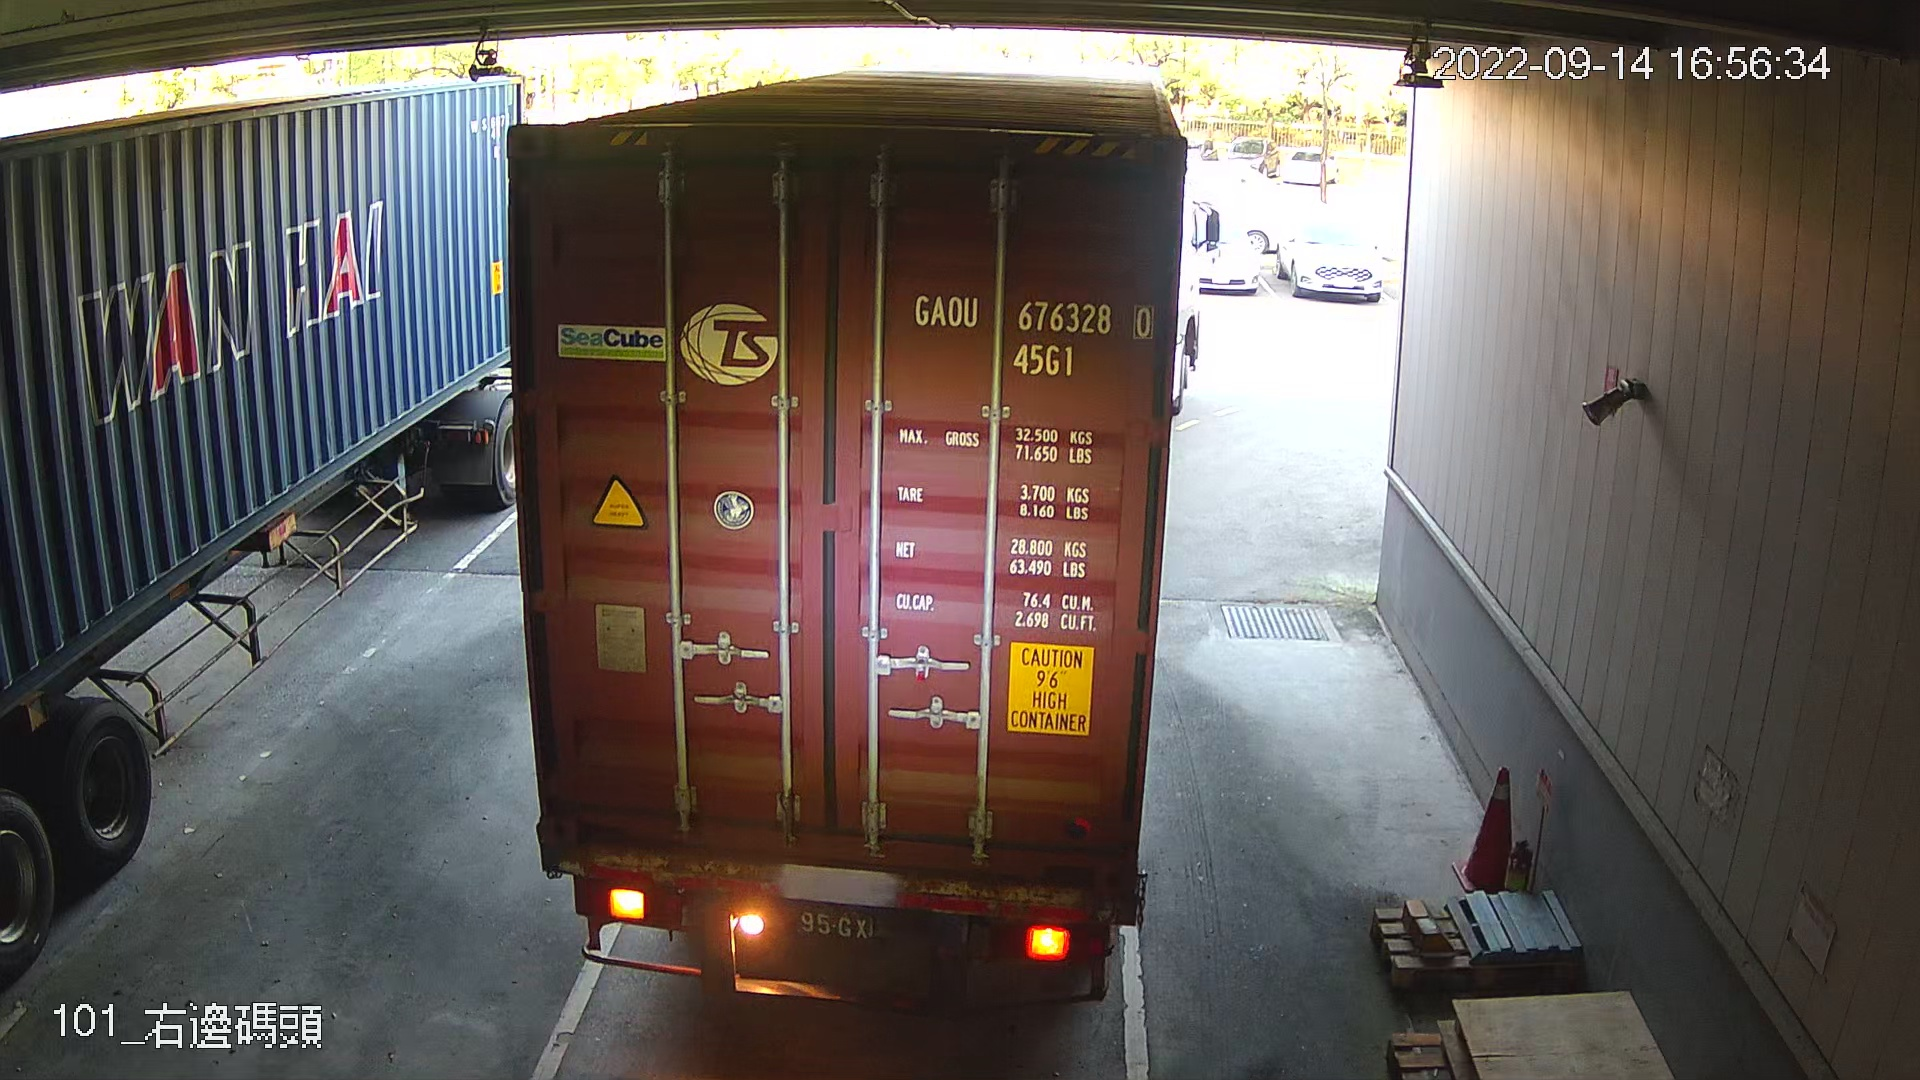container: (909, 284, 1159, 385)
